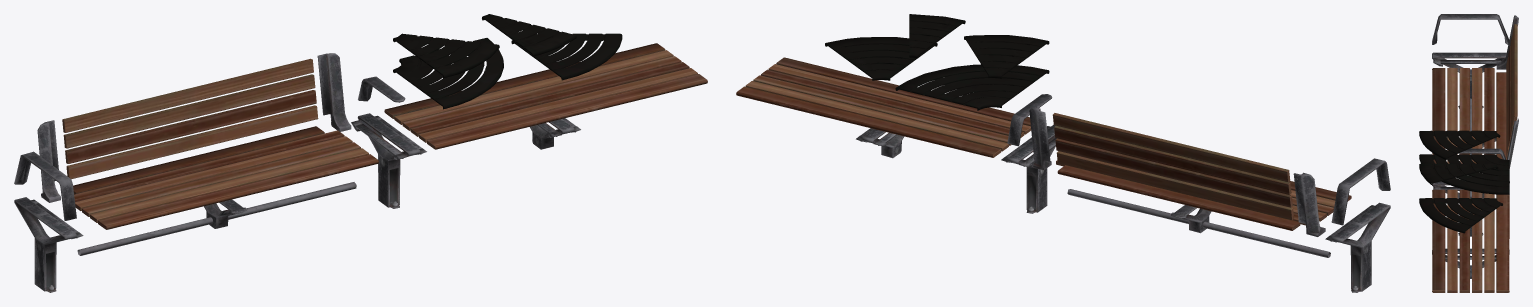
The model's file is modular_street_seating.glb.
3 views of the same model, side by side, from view 1: azimuth 30°, elevation 25°; view 2: azimuth 150°, elevation 25°; view 3: azimuth 270°, elevation 25° (orthographic). The views are drawn at different scales.
Visible parts, largest first — view 1: arm_rest_01; view 2: arm_rest_01; view 3: arm_rest_01.
Part boxes in pixels (x1,y1,x2,y2): arm_rest_01: (14, 14, 707, 292); arm_rest_01: (736, 14, 1390, 292); arm_rest_01: (1419, 14, 1518, 292).
Size of the model in its own units: 4.34 by 0.95 by 0.77.
Materials: 5 (5 with a texture image).
